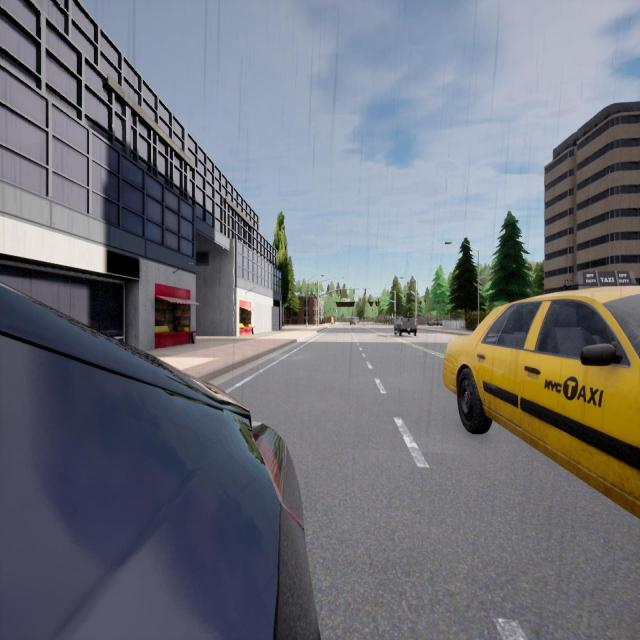Vehicle: (0, 283, 319, 640), (443, 286, 639, 518), (393, 317, 417, 336), (427, 319, 442, 326), (350, 318, 356, 326), (353, 317, 359, 324)
traffic_light: (364, 289, 366, 294), (340, 289, 341, 295), (394, 310, 396, 313), (368, 297, 369, 302), (404, 294, 405, 298), (360, 298, 360, 302), (378, 298, 378, 302), (354, 289, 354, 294)
